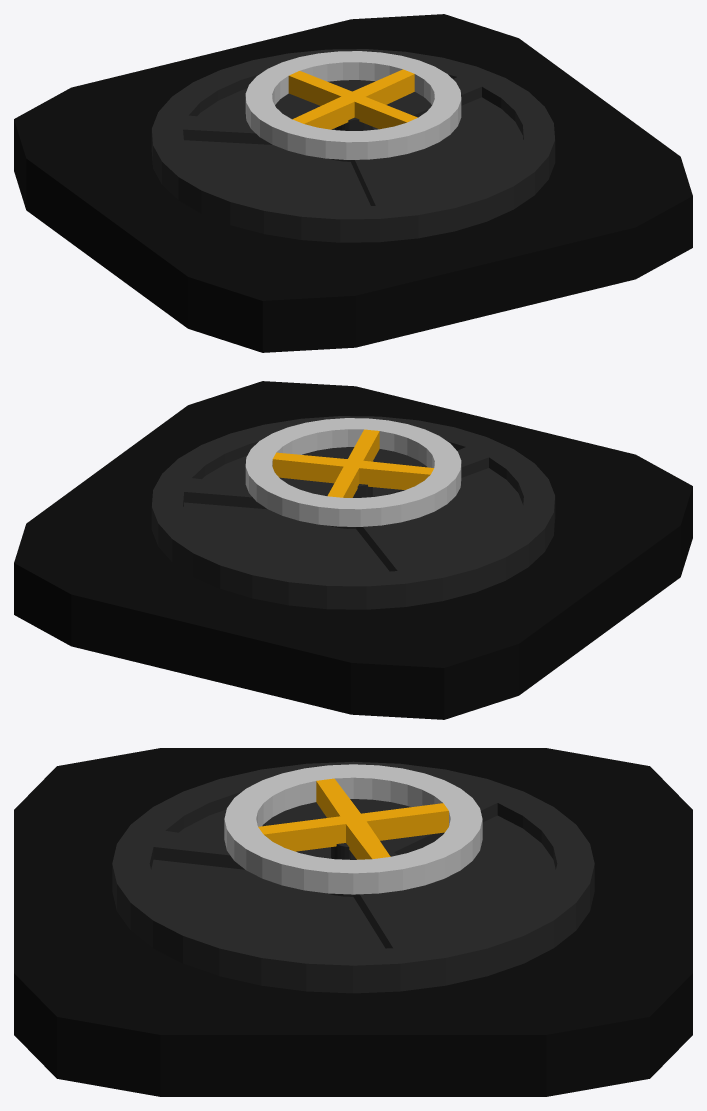
File: hatch.obj
3 renders of one model, top to bottom at view 1: azimuth 30°, elevation 25°; view 2: azimuth 150°, elevation 25°; view 3: azimuth 270°, elevation 25°, orthographic. The views are drawn at different scales.
Parts seen in each view (by area): view 1: Cube; view 2: Cube; view 3: Cube.
Boxes of the visible parts, bbox=[...] form: Cube: bbox=[14, 14, 692, 352]; Cube: bbox=[14, 381, 692, 719]; Cube: bbox=[14, 748, 692, 1096].
Size of the model in its own units: 2.81 by 0.6158 by 2.81.
